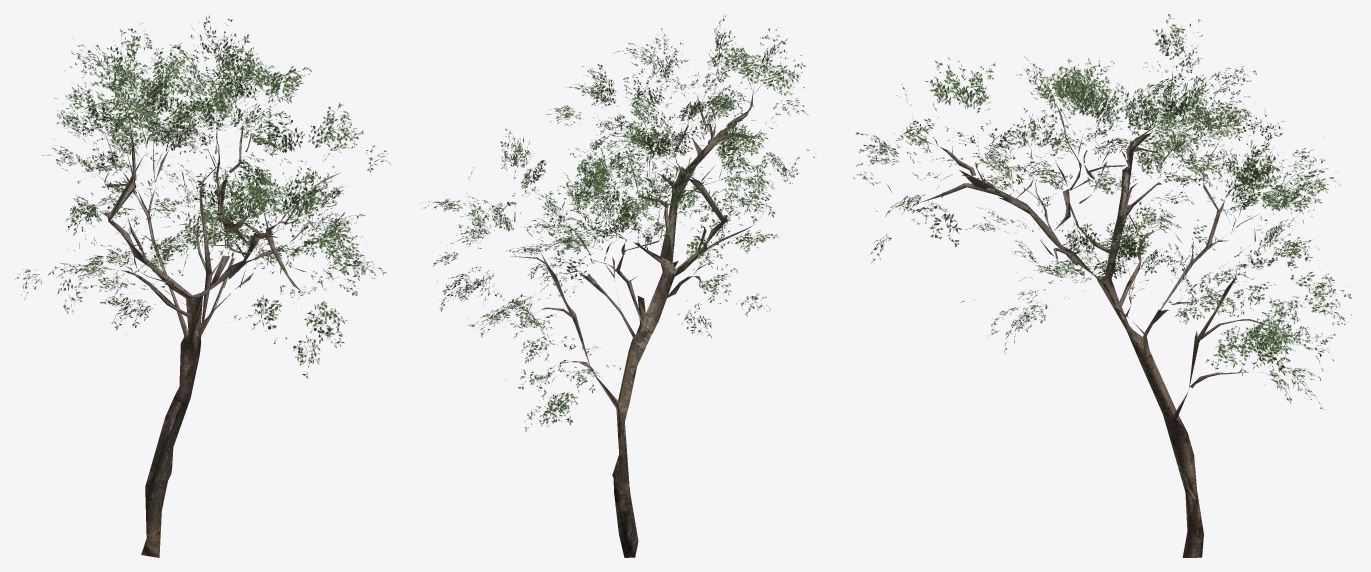
File: broadleaf.glb
3 views of the same model, side by side, from view 1: azimuth 30°, elevation 25°; view 2: azimuth 150°, elevation 25°; view 3: azimuth 270°, elevation 25° (orthographic). The views are drawn at different scales.
Parts seen in each view (by area): view 1: tree_small_02_LOD0; view 2: tree_small_02_LOD0; view 3: tree_small_02_LOD0.
Boxes of the visible parts, box(x1,y1,x2,y2) form: tree_small_02_LOD0: box(15, 15, 390, 557); tree_small_02_LOD0: box(420, 15, 816, 557); tree_small_02_LOD0: box(853, 14, 1351, 557).
Size of the model in its own units: 2.88 by 4.54 by 4.14.
3 materials, 3 textured.
